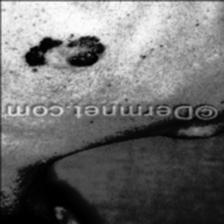Potentially Malignant Skin Tumors: (18, 34, 115, 71)
